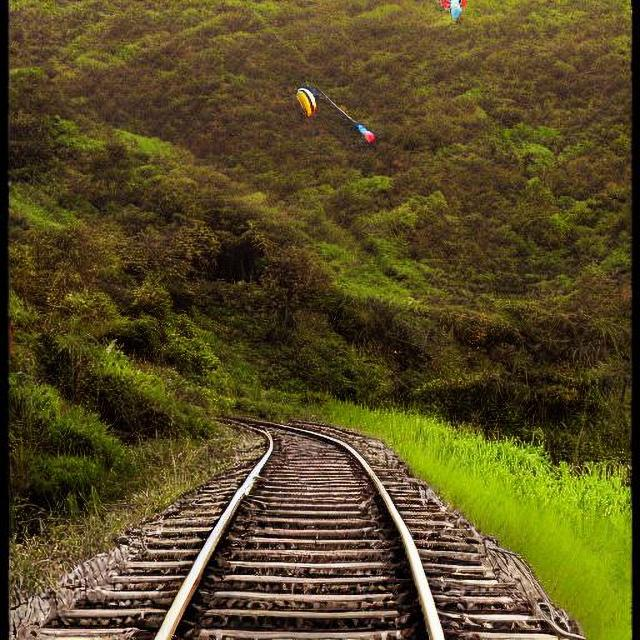floating object: (340, 117, 380, 146), (294, 85, 318, 119), (437, 0, 465, 22)
